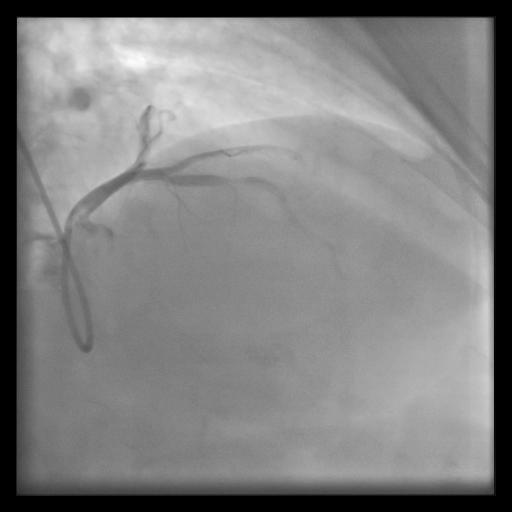Stenosis: (160, 172, 178, 186), (221, 173, 240, 185)
